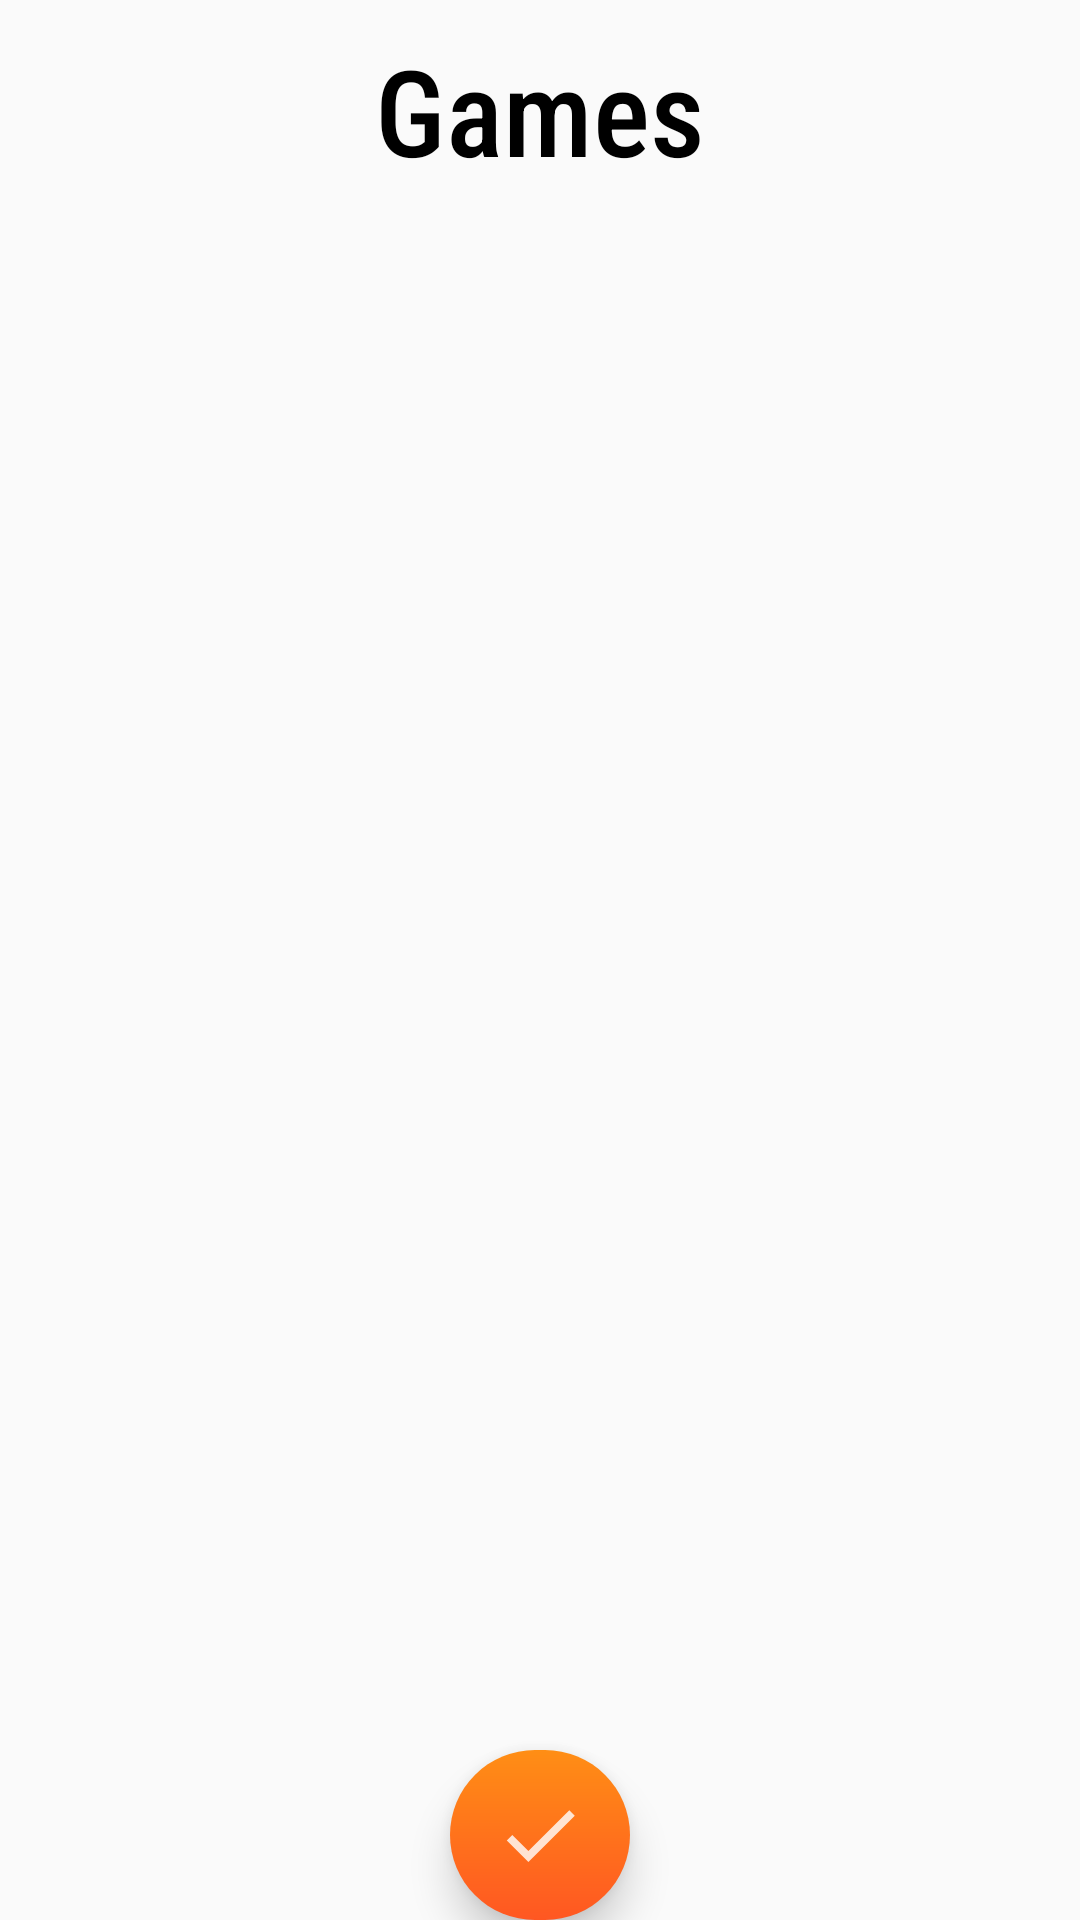

Where to tap for icons on this 1080w x 1920h app screen, as (x=x, y=y):
check: (x=540, y=1835)
